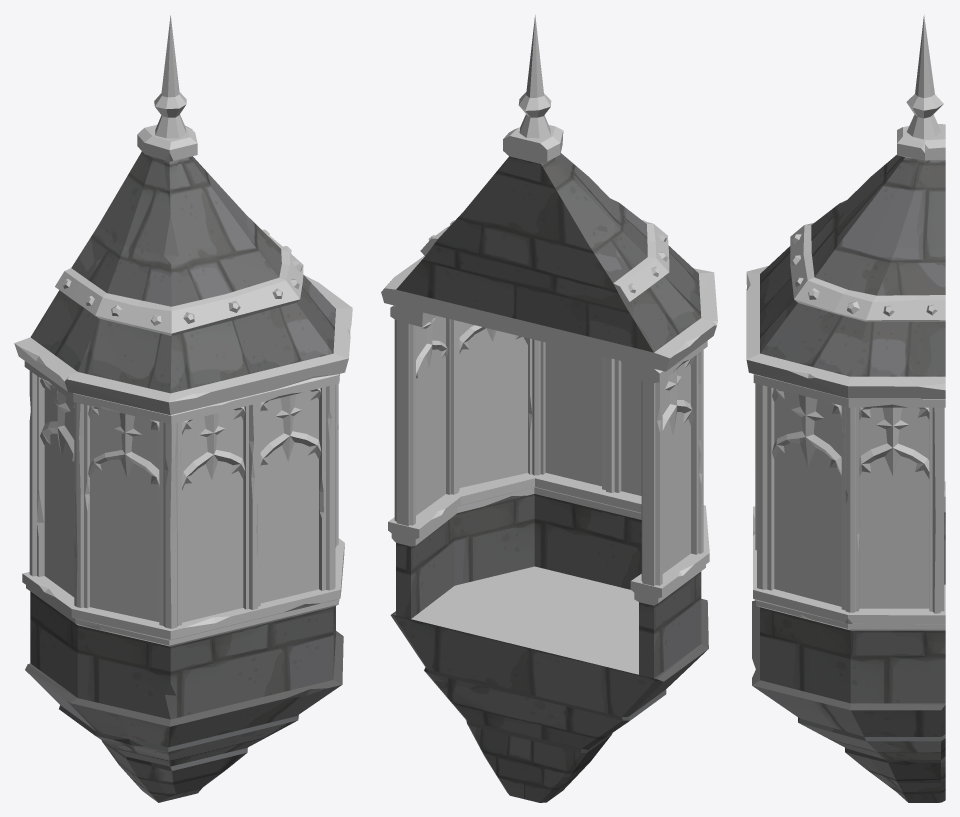
The model's file is SM_Bld_Balcony_01.fbx.
The picture shows the model from 3 angles, left to right: view 1: azimuth 30°, elevation 25°; view 2: azimuth 150°, elevation 25°; view 3: azimuth 270°, elevation 25°; orthographic projection.
Visible parts, largest first — view 1: SM_Bld_Balcony_01, SM_Bld_Balcony_01_Glass; view 2: SM_Bld_Balcony_01, SM_Bld_Balcony_01_Glass; view 3: SM_Bld_Balcony_01, SM_Bld_Balcony_01_Glass.
Part boxes in pixels (x1,y1,x2,y2): SM_Bld_Balcony_01: (14,15,352,802); SM_Bld_Balcony_01_Glass: (44,384,318,622); SM_Bld_Balcony_01: (381,15,717,802); SM_Bld_Balcony_01_Glass: (416,316,690,573); SM_Bld_Balcony_01: (746,15,945,802); SM_Bld_Balcony_01_Glass: (774,391,929,608).
Bounding box in the file's own units: 281 × 720 × 167.
